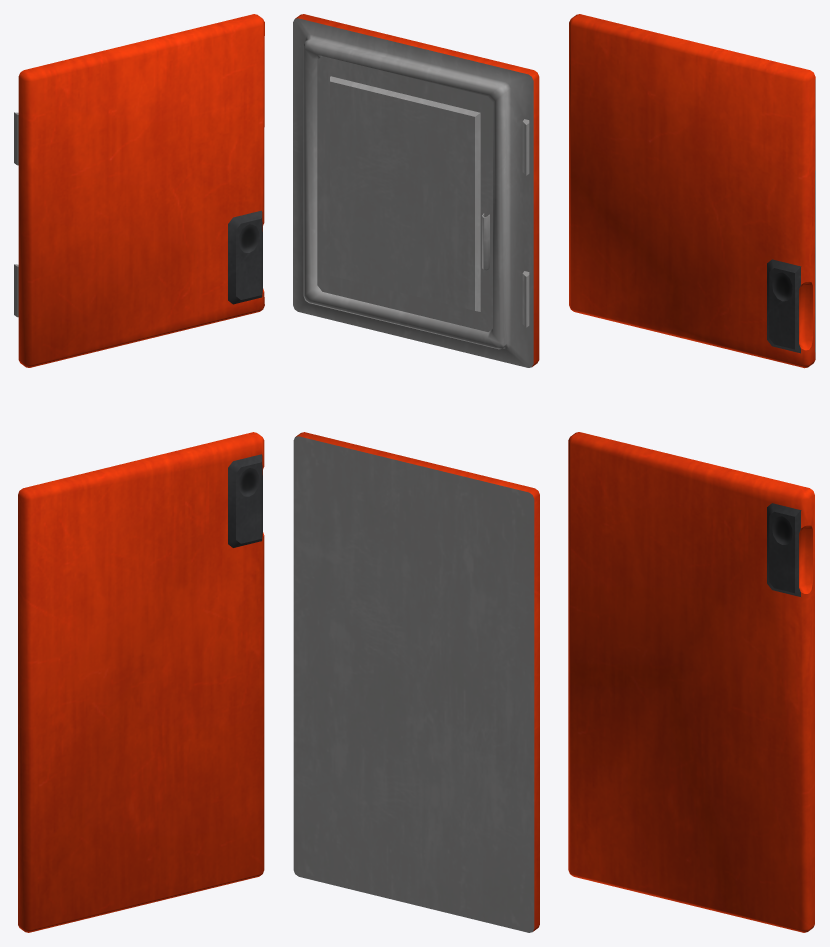
Rendered from locker_Lid.fbx.
The picture shows the model from 3 angles, left to right: view 1: azimuth 30°, elevation 25°; view 2: azimuth 150°, elevation 25°; view 3: azimuth 330°, elevation 25°; orthographic projection.
Parts seen in each view (by area): view 1: lower door, upper door; view 2: lower door, upper door; view 3: lower door, upper door.
Boxes of the visible parts, box(x1,y1,x2,y2) form: lower door: box(18, 432, 264, 932); upper door: box(14, 14, 264, 367); lower door: box(293, 432, 539, 932); upper door: box(293, 14, 539, 367); lower door: box(568, 432, 814, 932); upper door: box(569, 14, 815, 368).
Bounding box in the file's own units: 48.13 × 164 × 6.16.
Materials: 1 (1 with a texture image).
